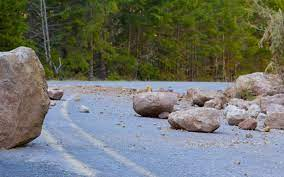obstacle: (1, 46, 50, 148), (128, 86, 179, 119), (165, 106, 223, 131), (223, 98, 263, 122), (228, 113, 259, 131), (190, 93, 223, 108), (265, 110, 284, 132), (182, 85, 203, 99)
